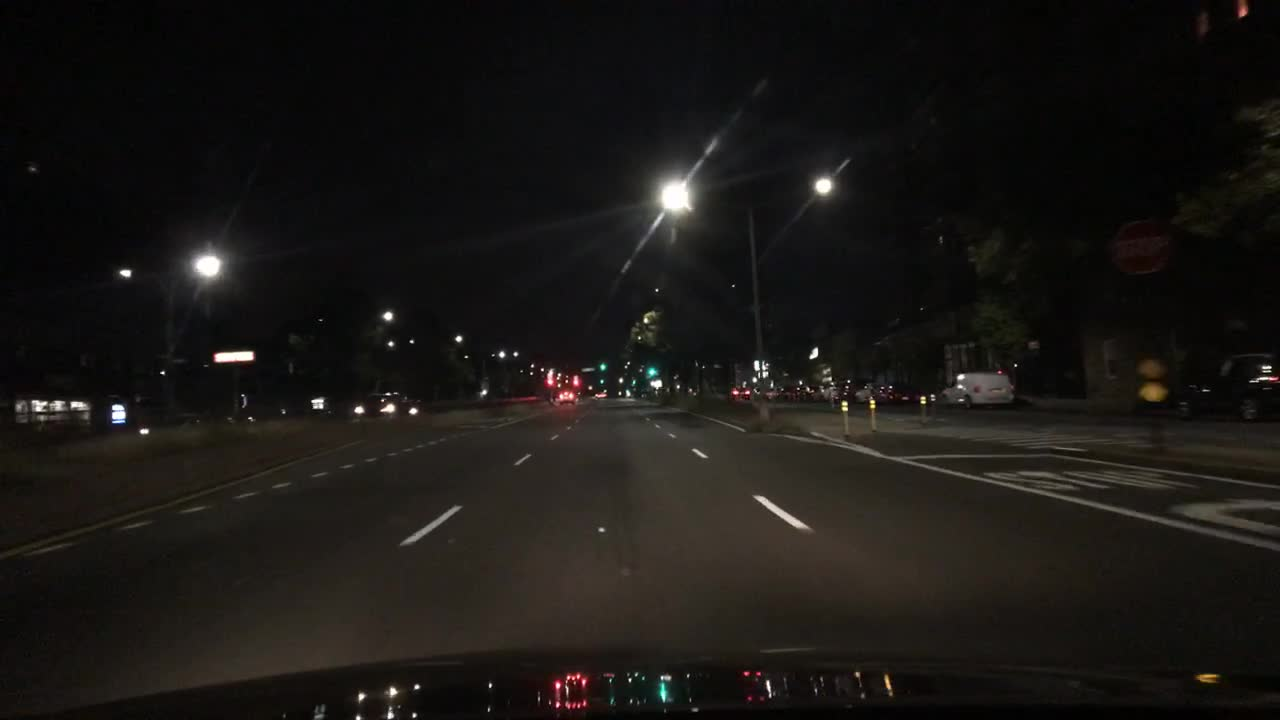car: (1172, 353, 1278, 417), (940, 371, 1014, 407), (129, 410, 221, 437), (352, 393, 420, 419), (227, 402, 288, 423), (875, 380, 916, 402), (854, 383, 886, 404), (838, 378, 863, 399), (751, 383, 776, 401), (817, 380, 838, 399), (800, 381, 821, 399), (556, 387, 577, 404), (727, 387, 751, 399), (788, 384, 808, 398), (773, 386, 793, 399), (651, 386, 670, 398), (627, 386, 646, 398), (682, 383, 698, 396), (591, 390, 609, 399)
traffic light: (646, 368, 658, 377), (598, 362, 607, 374), (568, 377, 580, 386), (544, 377, 556, 386)
traffic sign: (1114, 219, 1172, 276), (212, 351, 254, 362), (152, 351, 170, 362), (752, 360, 766, 371), (579, 365, 595, 372)
